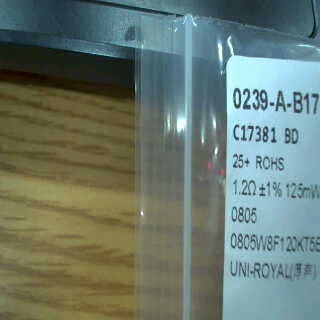1.2R: (231, 179, 259, 226)
